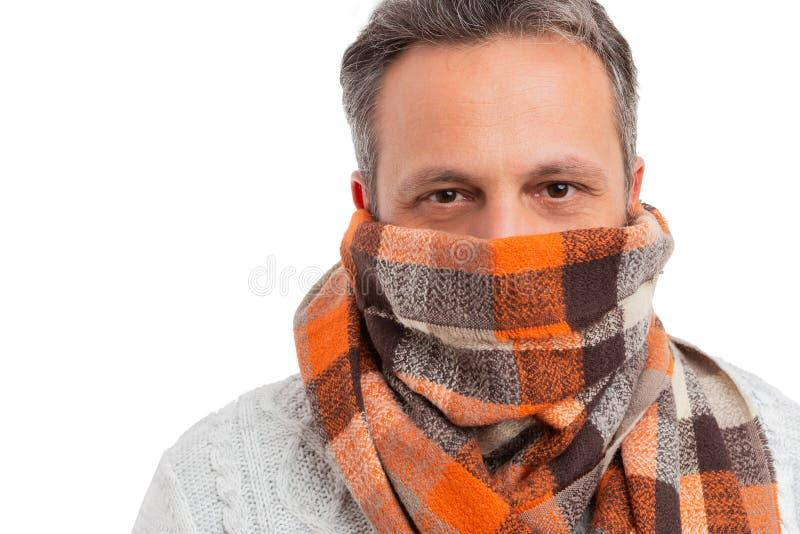scarf-kerchief: (277, 184, 794, 534)
